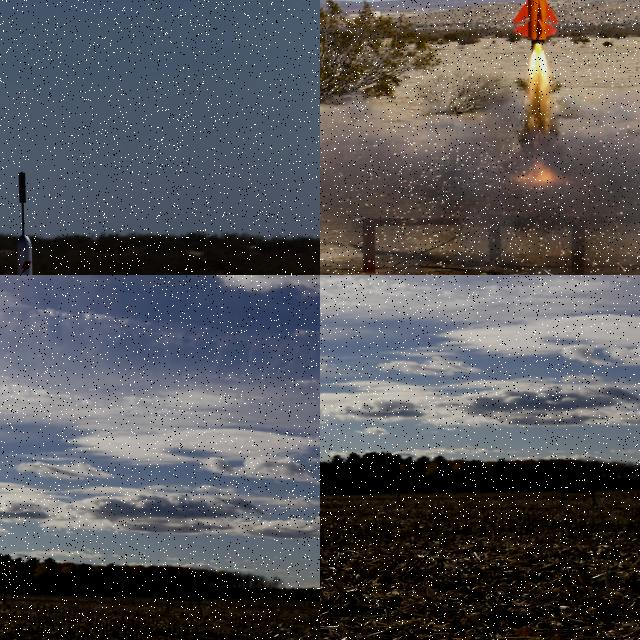Rocket: (4, 229, 49, 275), (395, 474, 401, 495), (2, 575, 8, 595)
